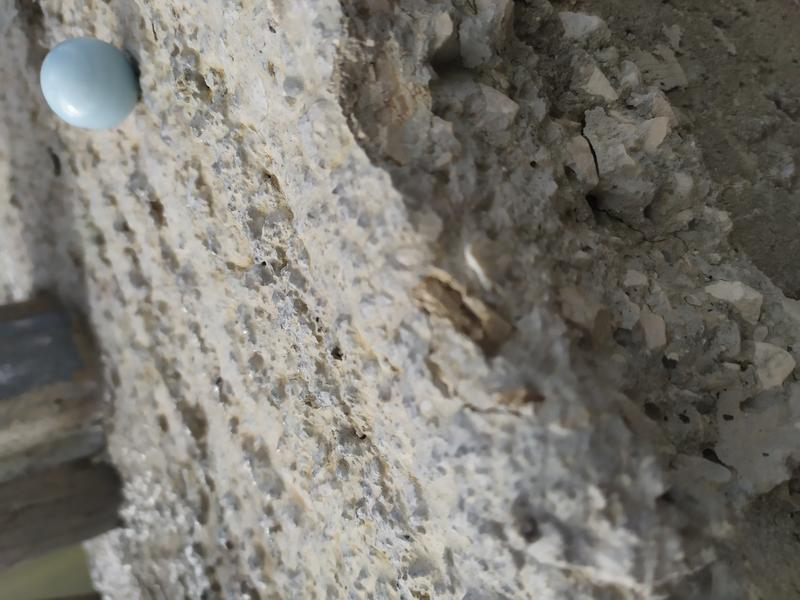Warning: (37, 32, 145, 134)
